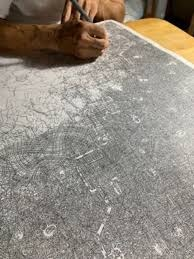maze: (1, 137, 187, 259)
